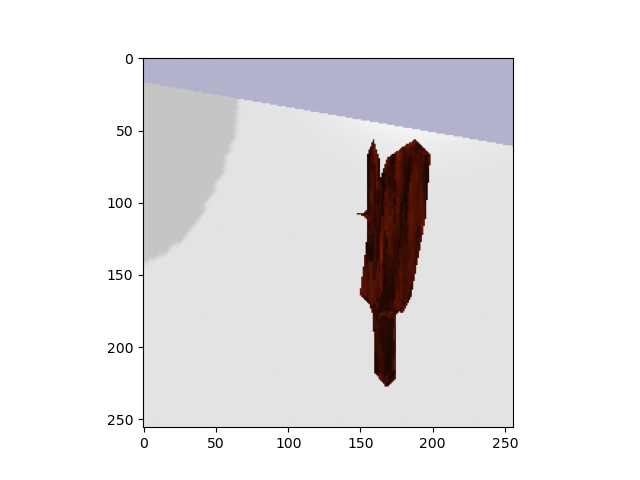v249b387_107: (349, 136, 436, 391)
